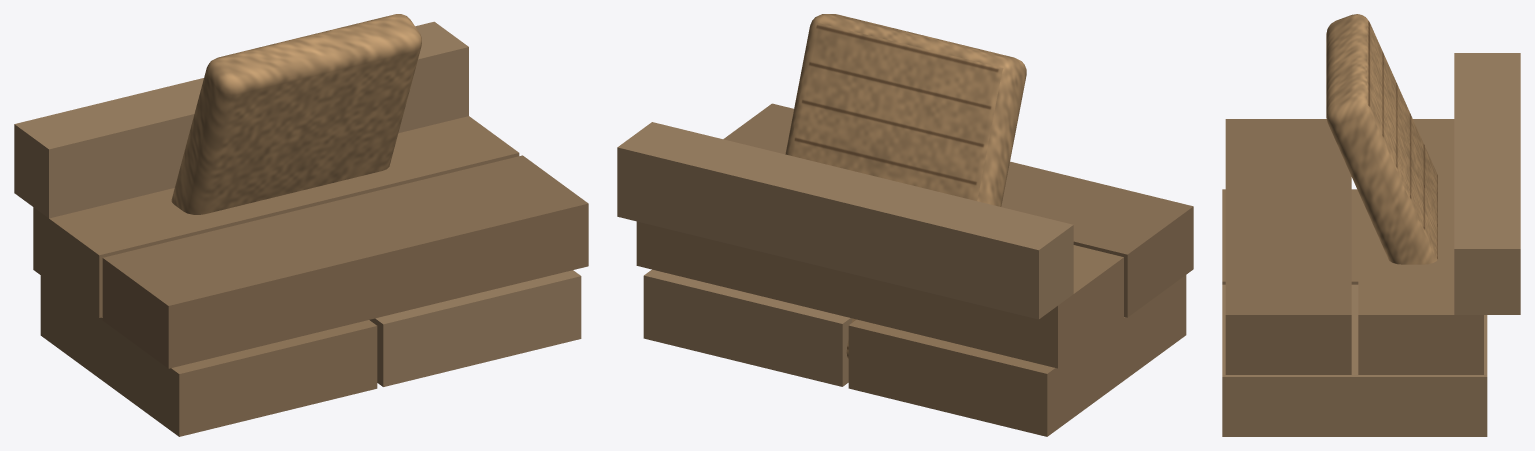
The model's file is dilmun_tablet_1.glb.
3 views of the same model, side by side, from view 1: azimuth 30°, elevation 25°; view 2: azimuth 150°, elevation 25°; view 3: azimuth 270°, elevation 25° (orthographic). The views are drawn at different scales.
Visible parts, largest first — view 1: bench, dilmun_1; view 2: bench, dilmun_1; view 3: bench, dilmun_1.
Part boxes in pixels (left/top/right/bottom): bench: left=14, top=21, right=588, bottom=436; dilmun_1: left=171, top=14, right=421, bottom=214; bench: left=617, top=103, right=1193, bottom=436; dilmun_1: left=785, top=14, right=1026, bottom=358; bench: left=1222, top=53, right=1520, bottom=436; dilmun_1: left=1326, top=14, right=1437, bottom=264.
Bounding box in the file's own units: 0.7 × 0.4771 × 0.45.
Materials: 5 (2 with a texture image).
